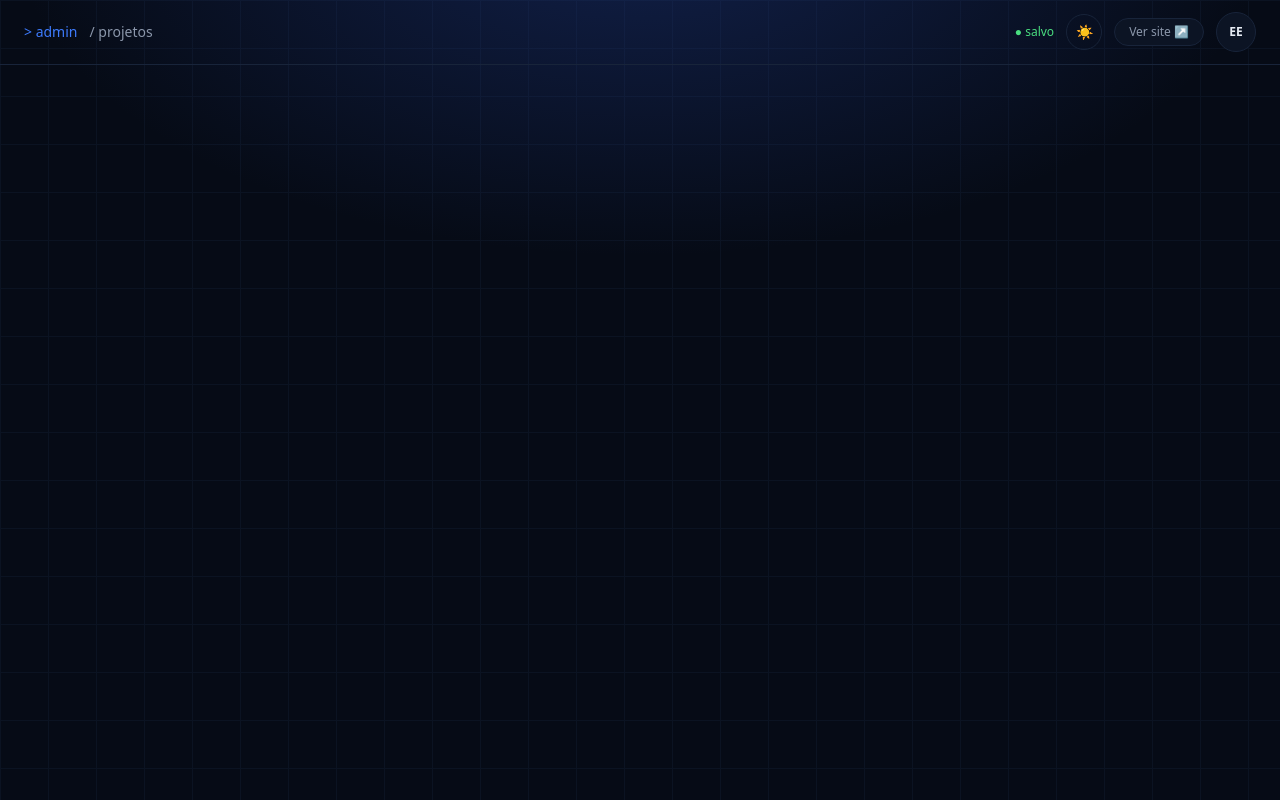
painel: estrutura › AdminHeader mostra iniciais sem foto e abre o menu com Sair
The image size is (1280, 800).
Expected: the button "Sair" is not shown
Step 1. Click the button with aria-label "Menu da conta" → {"x": 1236, "y": 32}, box [1216,12,1256,52]
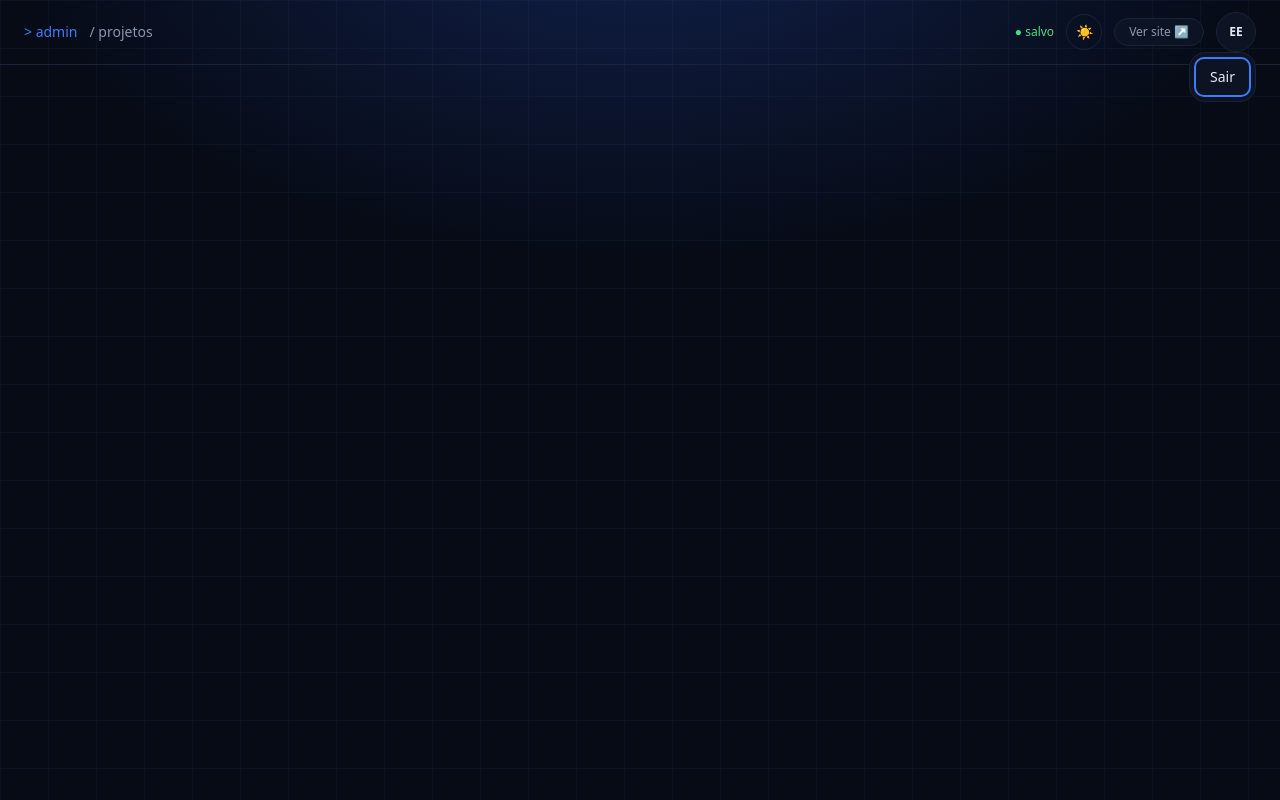
Expected: the text "● salvo" is shown, [1015,24,1054,40]
Now the button "Sair" is shown, box [1198,61,1247,93]
